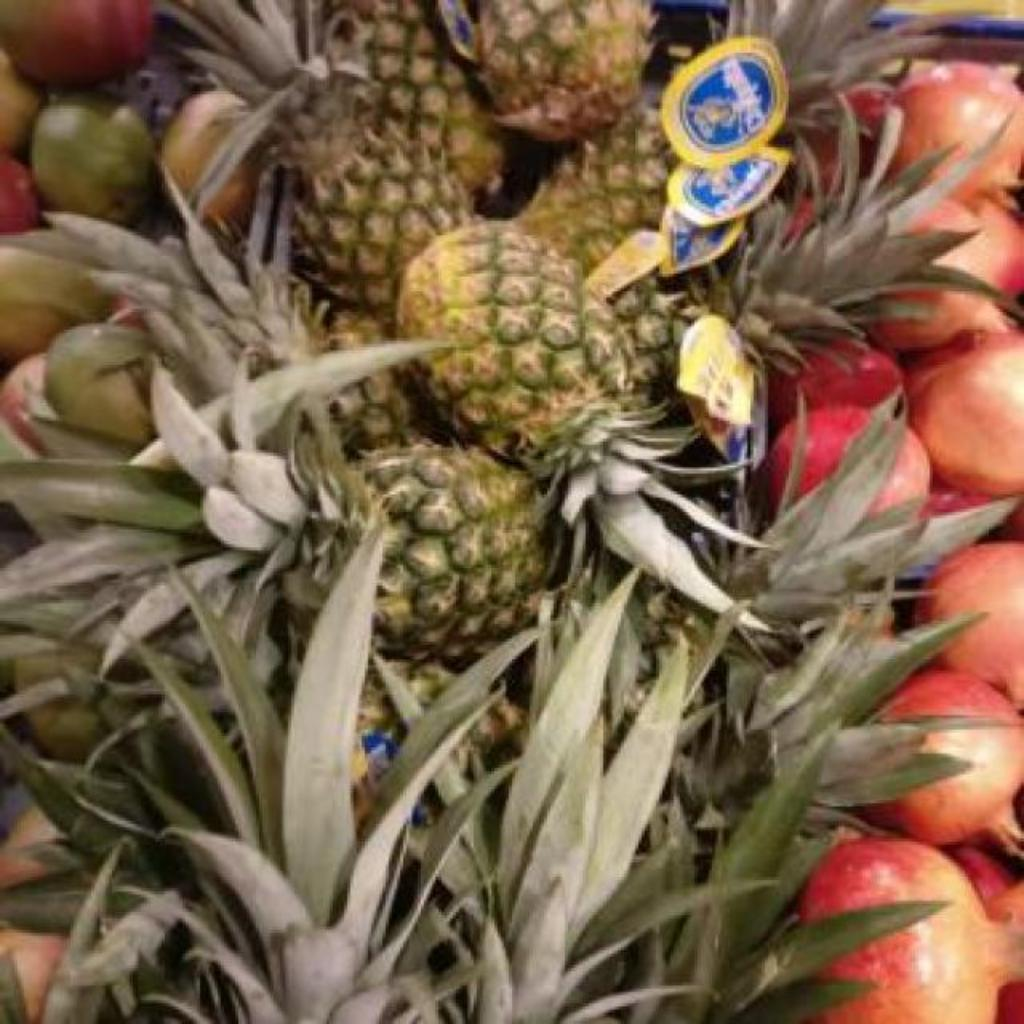pineapple: (0, 320, 405, 669), (400, 222, 750, 613), (168, 0, 470, 317), (360, 442, 544, 661), (439, 0, 652, 141), (520, 104, 676, 271), (366, 0, 502, 189), (736, 0, 898, 117)
